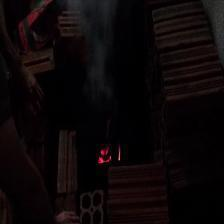fire: (88, 132, 117, 165)
